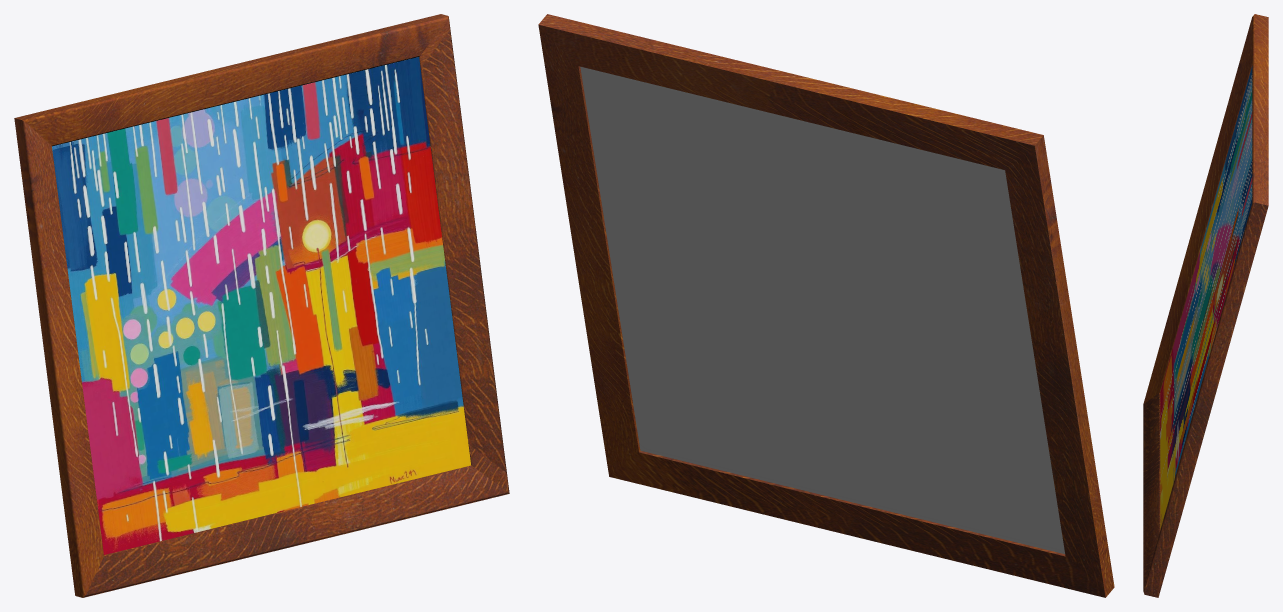
Rendered from black_frame_acrylic.glb.
3 renders of one model, left to right at view 1: azimuth 30°, elevation 25°; view 2: azimuth 150°, elevation 25°; view 3: azimuth 270°, elevation 25°, orthographic. The views are drawn at different scales.
Parts seen in each view (by area): view 1: square artwork, square; view 2: square artwork, square; view 3: square, square artwork.
Boxes of the visible parts, x1=… form: square artwork: x1=52, y1=57, x2=470, y2=554; square: x1=14, y1=14, x2=509, y2=597; square artwork: x1=580, y1=66, x2=1064, y2=553; square: x1=538, y1=14, x2=1114, y2=597; square: x1=1143, y1=14, x2=1268, y2=597; square artwork: x1=1160, y1=66, x2=1252, y2=529.
Bounding box in the file's own units: 0.6856 × 0.6706 × 0.1927.
3 materials, 2 textured.
